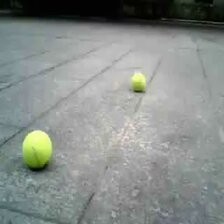tennis: (23, 131, 51, 166), (131, 71, 146, 91)
